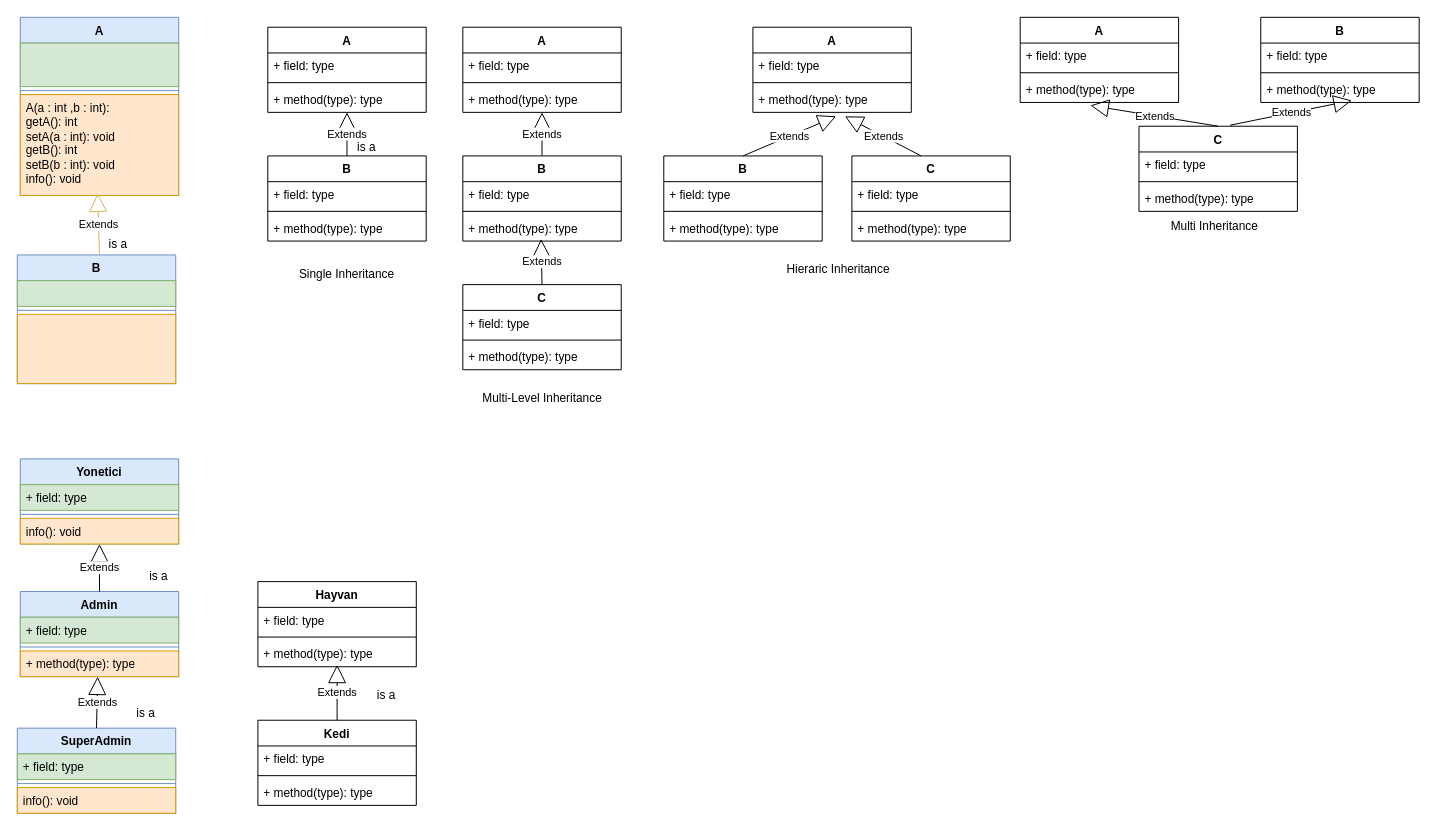
The diagram is 1436 pixels wide and 834 high, and some of its shapes have lost their labels. Here are the shapes that lost their labels. From the top down, the centre of each, then its label:
[99,64]: - a : int - b : int
[96,293]: - c : int
[96,348]: B(a : int , b : int. , c : int): getC(): int setC(c : int): void infoB(): void
